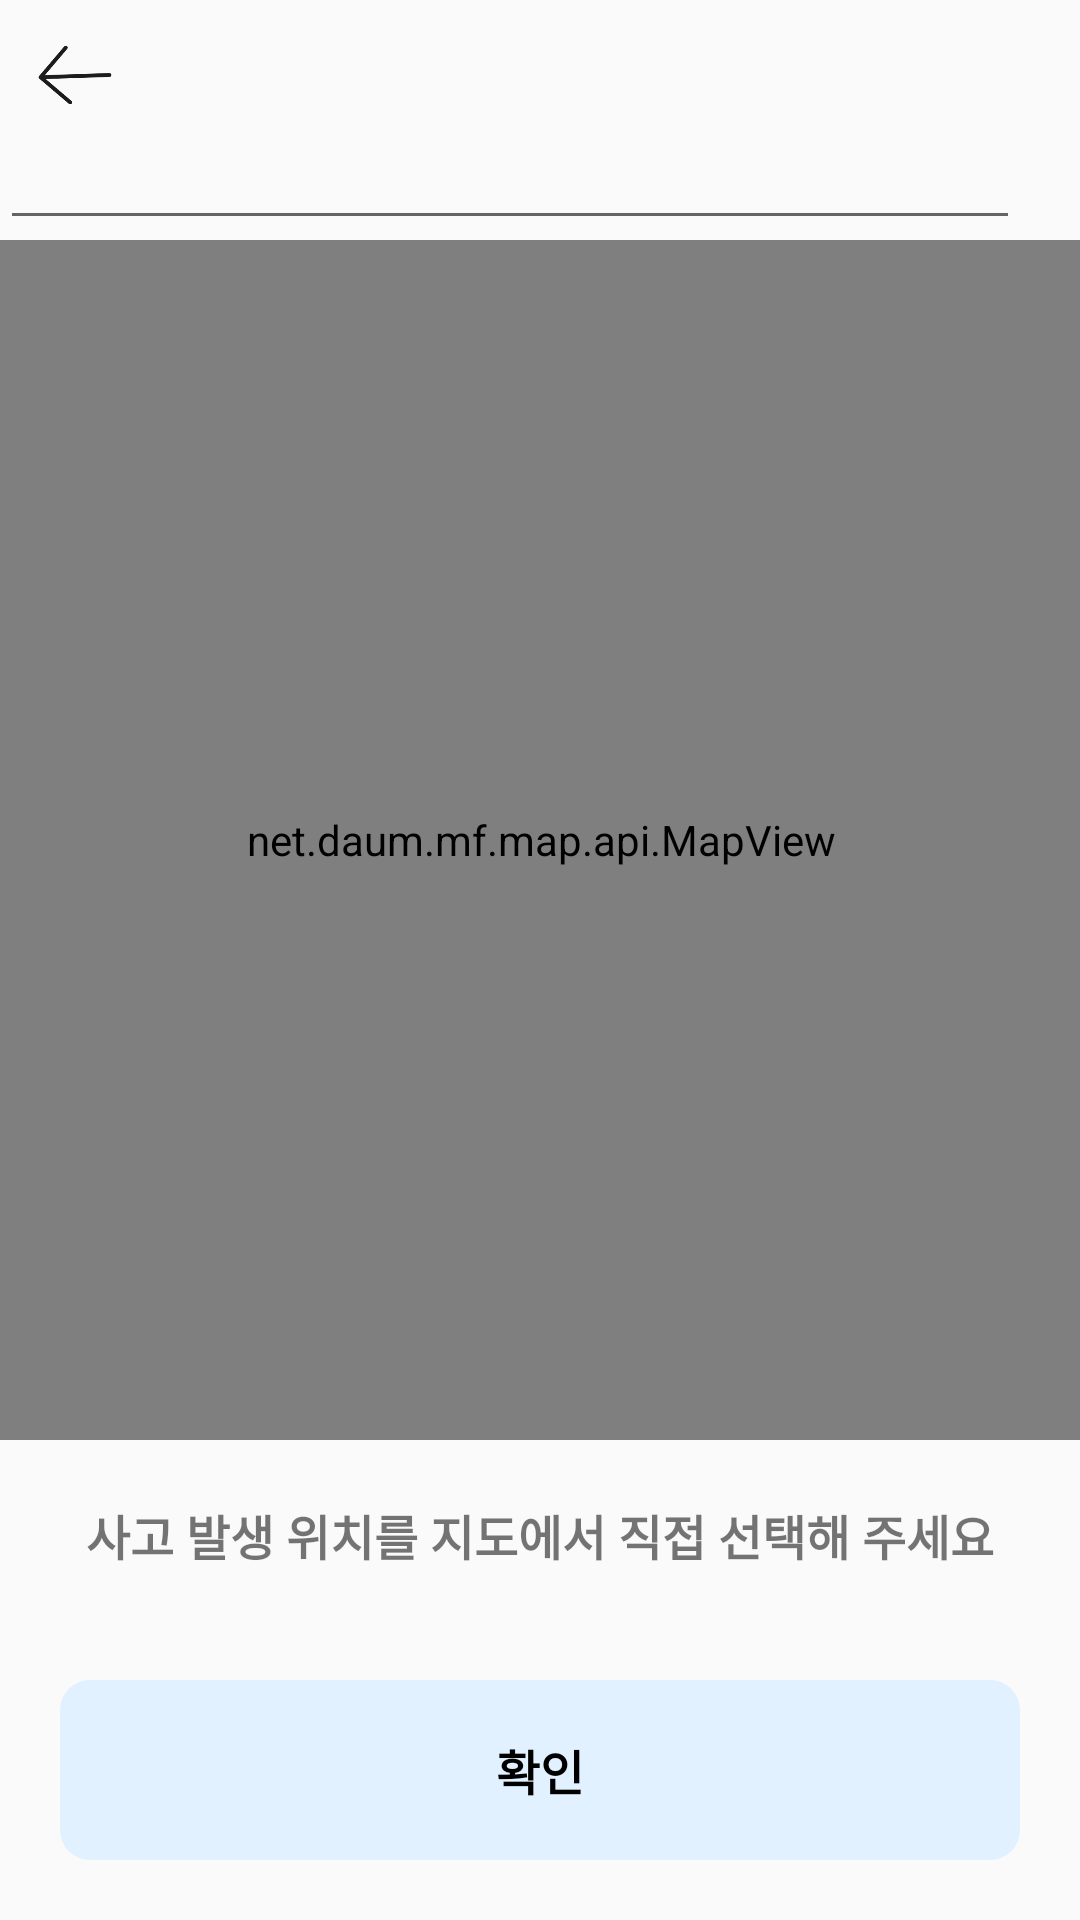

Point at icon controls on the screen. Image size 1080px×1920px, points as (x=x, y=y).
back arrow: (x=75, y=75)
